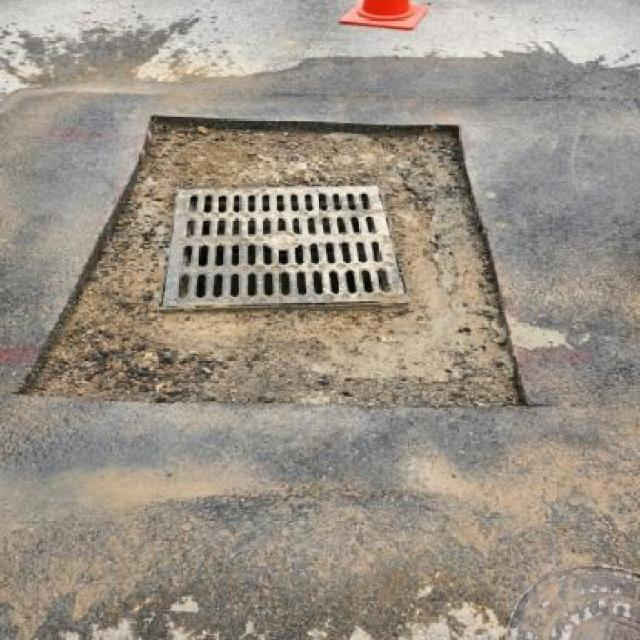Drain Hole: (130, 165, 410, 333)
